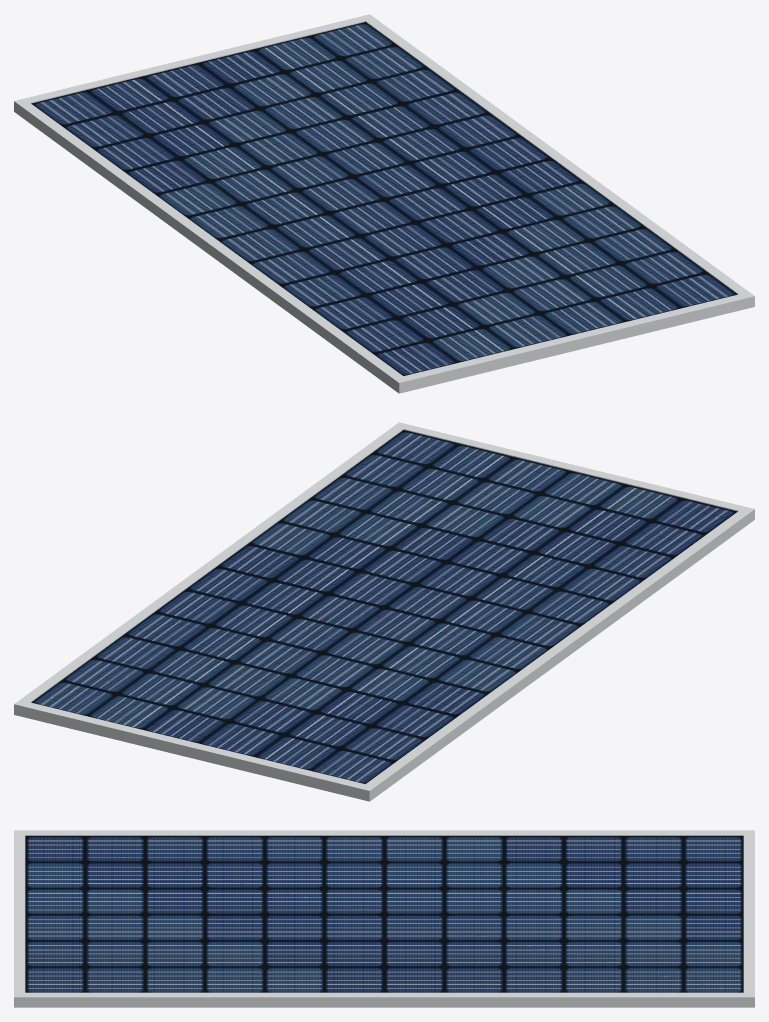
The model's file is solar_panel.glb.
3 views of the same model, one above another, from view 1: azimuth 30°, elevation 25°; view 2: azimuth 150°, elevation 25°; view 3: azimuth 270°, elevation 25° (orthographic). The views are drawn at different scales.
Parts seen in each view (by area): view 1: solar_panel; view 2: solar_panel; view 3: solar_panel.
Boxes of the visible parts, box(x1,y1,x2,y2) form: solar_panel: box(14, 14, 754, 393); solar_panel: box(14, 422, 754, 801); solar_panel: box(14, 830, 754, 1007).
Bounding box in the file's own units: 1.22 × 0.069 × 2.29.
Materials: 4 (1 with a texture image).
